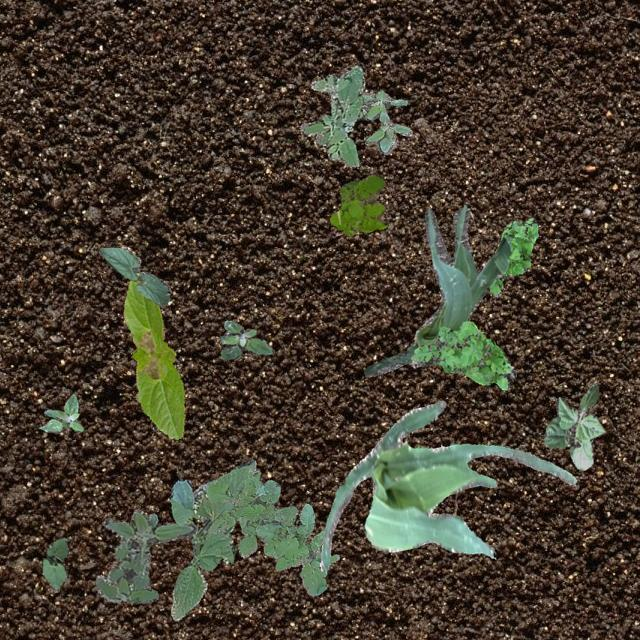crop: (318, 400, 576, 572), (364, 204, 509, 376), (168, 458, 254, 620), (122, 278, 184, 438), (542, 382, 604, 470), (98, 247, 168, 304), (40, 536, 68, 592)
weed: (205, 470, 338, 596), (94, 508, 194, 602), (408, 320, 516, 390), (300, 65, 364, 166), (488, 216, 538, 296), (356, 88, 412, 154), (329, 173, 386, 234), (220, 320, 272, 358), (38, 394, 82, 432)
